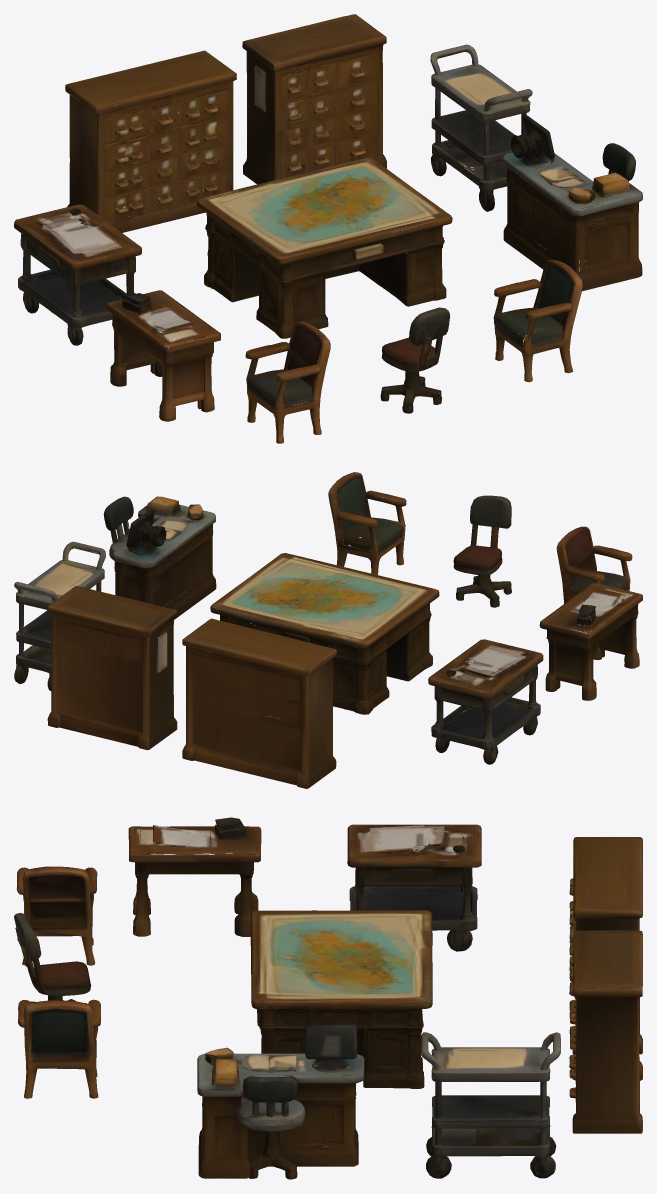
The model's file is env-archive-furniture.glb.
3 views of the same model, one above another, from view 1: azimuth 30°, elevation 25°; view 2: azimuth 150°, elevation 25°; view 3: azimuth 270°, elevation 25° (orthographic). The views are drawn at different scales.
Parts seen in each view (by area): view 1: env-archive-furniture; view 2: env-archive-furniture; view 3: env-archive-furniture.
Part boxes in pixels (<box>): env-archive-furniture: <box>14,14,642,443</box>; env-archive-furniture: <box>14,472,642,788</box>; env-archive-furniture: <box>14,817,642,1179</box>.
Size of the model in its own units: 15.5 by 3.89 by 14.81.
1 material, 1 textured.
